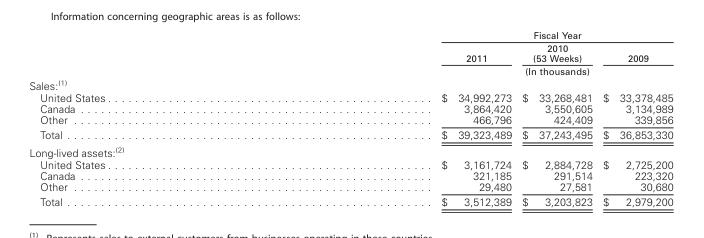table: (28, 29, 672, 207)
table column: (28, 29, 275, 207), (275, 29, 516, 207), (516, 29, 597, 207), (597, 29, 672, 207)
table column header: (28, 29, 672, 77)
table projected row header: (28, 142, 672, 157), (28, 77, 672, 90)
table row: (28, 41, 672, 64), (28, 126, 672, 142), (28, 142, 672, 157), (28, 193, 672, 207), (28, 64, 672, 77), (28, 77, 672, 90), (28, 113, 672, 126), (28, 180, 672, 193), (28, 29, 672, 41), (28, 90, 672, 102), (28, 157, 672, 169), (28, 102, 672, 113), (28, 169, 672, 180)
table spanning cell: (275, 64, 672, 77), (275, 29, 672, 41)
